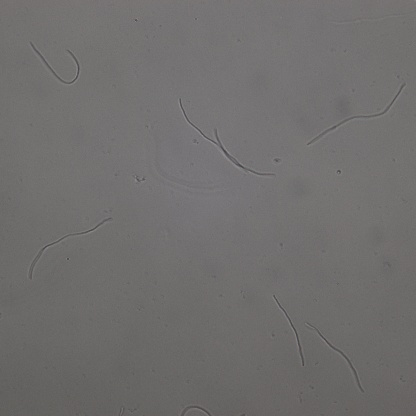Sensitive: (180, 97, 274, 178), (306, 82, 406, 145), (27, 217, 112, 280), (307, 323, 364, 392), (274, 296, 305, 367), (31, 42, 81, 85)
